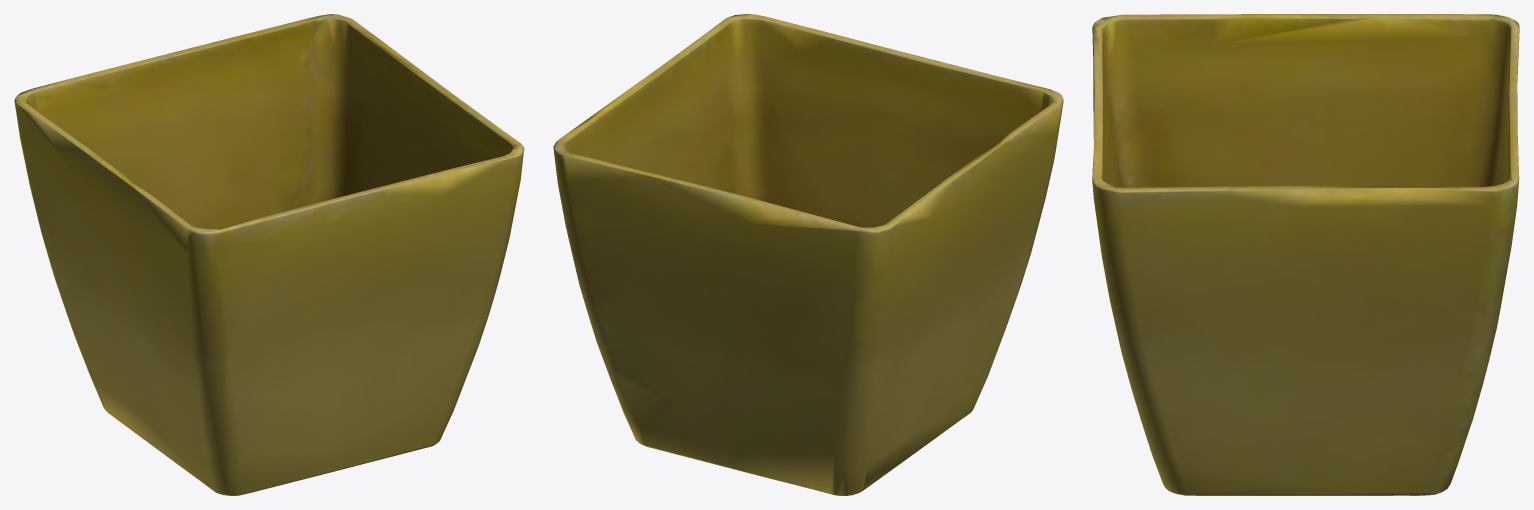
The model's file is Ecoforms_Plant_Container_QP6HARVEST-high.glb.
3 renders of one model, left to right at view 1: azimuth 30°, elevation 25°; view 2: azimuth 150°, elevation 25°; view 3: azimuth 270°, elevation 25°, orthographic. The views are drawn at different scales.
Parts seen in each view (by area): view 1: Ecoforms_Plant_Container_QP6HARVEST; view 2: Ecoforms_Plant_Container_QP6HARVEST; view 3: Ecoforms_Plant_Container_QP6HARVEST.
Part boxes in pixels (<box>): Ecoforms_Plant_Container_QP6HARVEST: <box>14,14,524,495</box>; Ecoforms_Plant_Container_QP6HARVEST: <box>553,14,1063,495</box>; Ecoforms_Plant_Container_QP6HARVEST: <box>1092,14,1519,495</box>.
Size of the model in its own units: 0.1902 by 0.1676 by 0.1902.
Materials: 1 (1 with a texture image).
